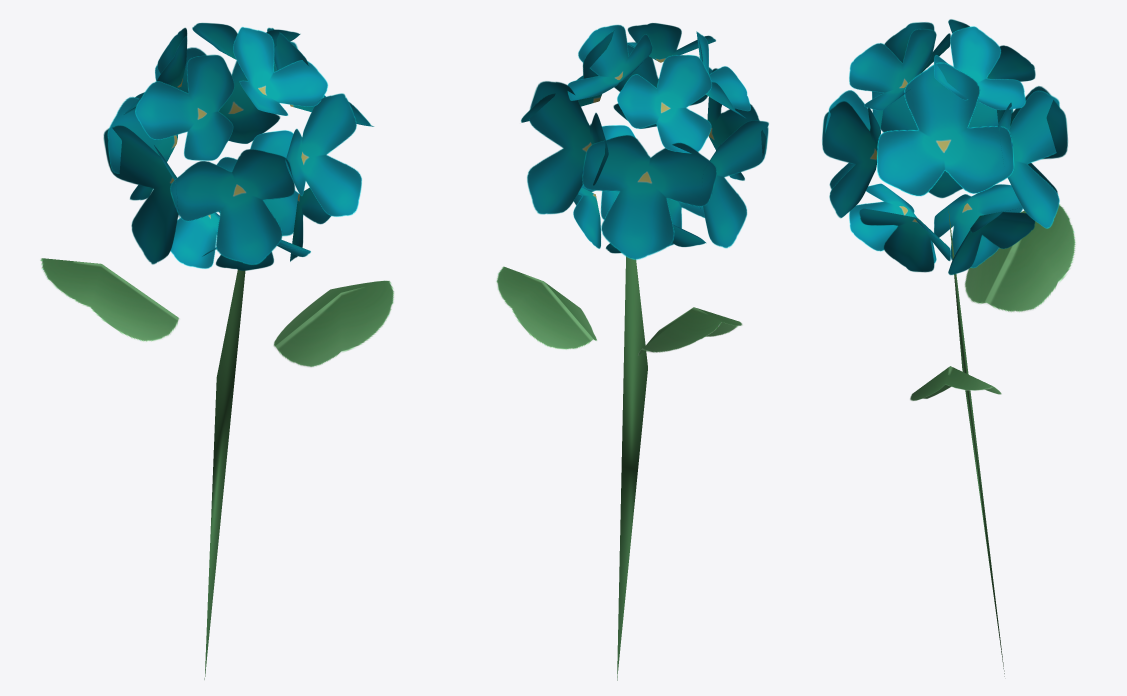
Rendered from cc0-flower-lod1.glb.
The picture shows the model from 3 angles, left to right: view 1: azimuth 30°, elevation 25°; view 2: azimuth 150°, elevation 25°; view 3: azimuth 270°, elevation 25°; orthographic projection. The views are drawn at different scales.
Visible parts, largest first — view 1: part_0; view 2: part_0; view 3: part_0.
Boxes of the visible parts, bbox=[...] form: part_0: bbox=[40, 23, 394, 679]; part_0: bbox=[496, 23, 768, 680]; part_0: bbox=[822, 19, 1075, 676].
Size of the model in its own units: 0.2677 by 0.4885 by 0.2044.
Materials: 1 (1 with a texture image).
